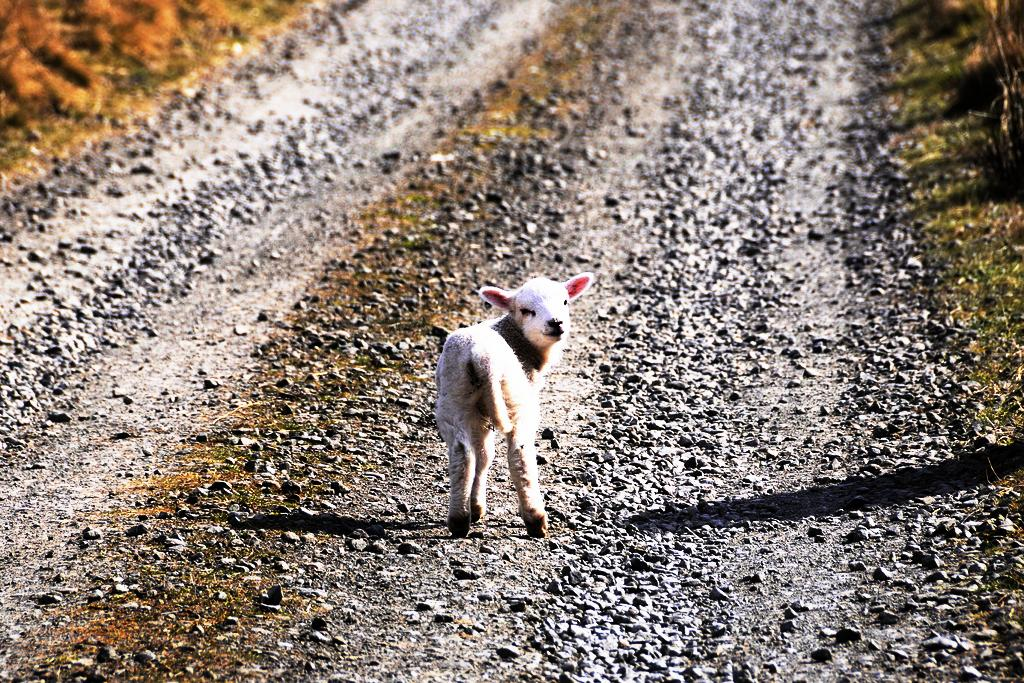Sheep: (436, 271, 599, 541)
